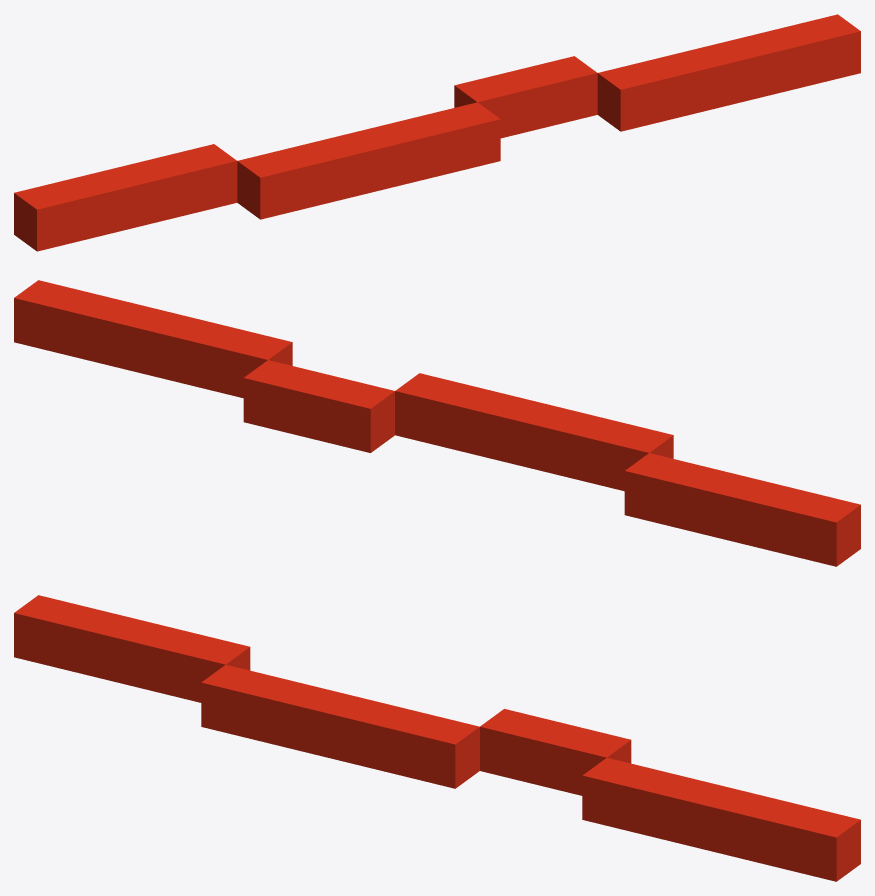
Rendered from yarn_string.obj.
3 views of the same model, one above another, from view 1: azimuth 30°, elevation 25°; view 2: azimuth 150°, elevation 25°; view 3: azimuth 330°, elevation 25° (orthographic). The views are drawn at different scales.
Size of the model in its own units: 20 by 1 by 2.
1 material, 1 textured.
